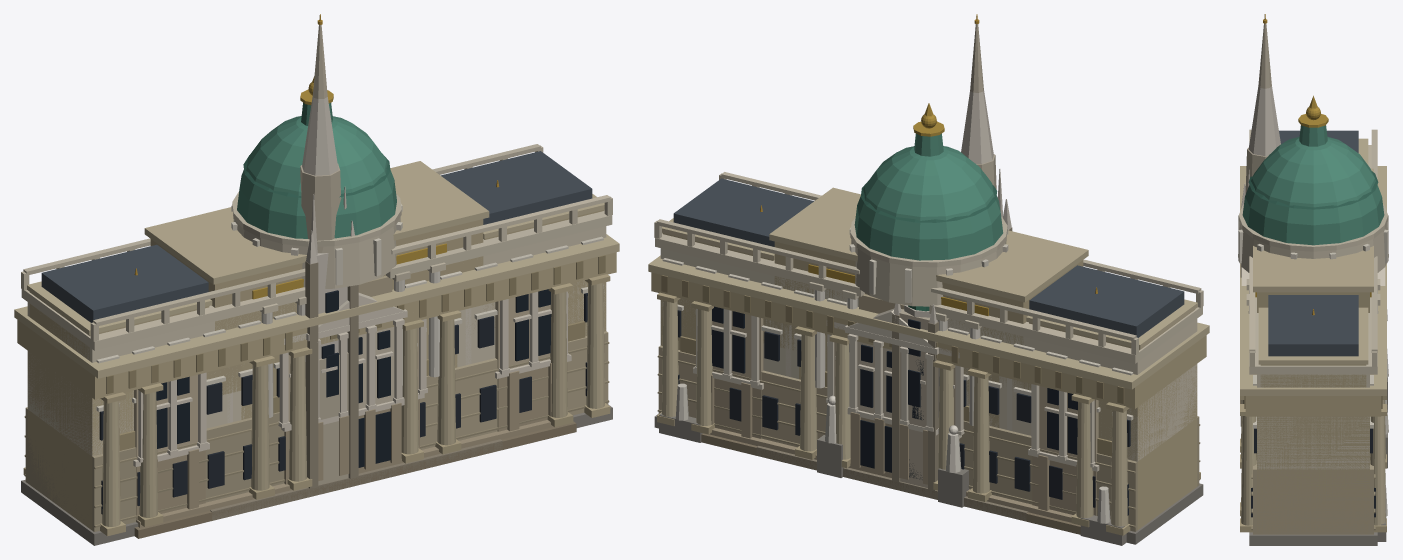
Rendered from vienna_landmarks.glb.
The picture shows the model from 3 angles, left to right: view 1: azimuth 30°, elevation 25°; view 2: azimuth 150°, elevation 25°; view 3: azimuth 270°, elevation 25°; orthographic projection. The views are drawn at different scales.
Parts seen in each view (by area): view 1: MICHAELERTRAKT, BURGTOR, HOFBURG_PALACE, ST_STEPHENS_CATHEDRAL; view 2: MICHAELERTRAKT, BURGTOR, HOFBURG_PALACE, ST_STEPHENS_CATHEDRAL; view 3: MICHAELERTRAKT, BURGTOR, ST_STEPHENS_CATHEDRAL, HOFBURG_PALACE.
Boxes of the visible parts, x1,y1,x2,y2 form: MICHAELERTRAKT: (21,76,612,531); BURGTOR: (14,161,619,545); HOFBURG_PALACE: (133,180,576,538); ST_STEPHENS_CATHEDRAL: (210,14,502,520); MICHAELERTRAKT: (654,103,1203,545); BURGTOR: (648,187,1209,544); HOFBURG_PALACE: (693,205,1099,534); ST_STEPHENS_CATHEDRAL: (756,14,1028,521); MICHAELERTRAKT: (1238,95,1388,541); BURGTOR: (1240,138,1386,545); ST_STEPHENS_CATHEDRAL: (1240,14,1280,426); HOFBURG_PALACE: (1241,267,1385,315).
Bounding box in the file's own units: 14 × 12 × 4.
